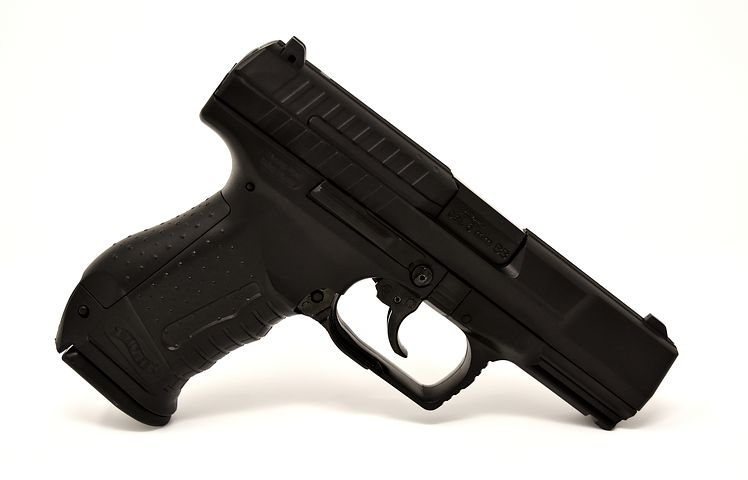gun: (52, 32, 688, 436)
